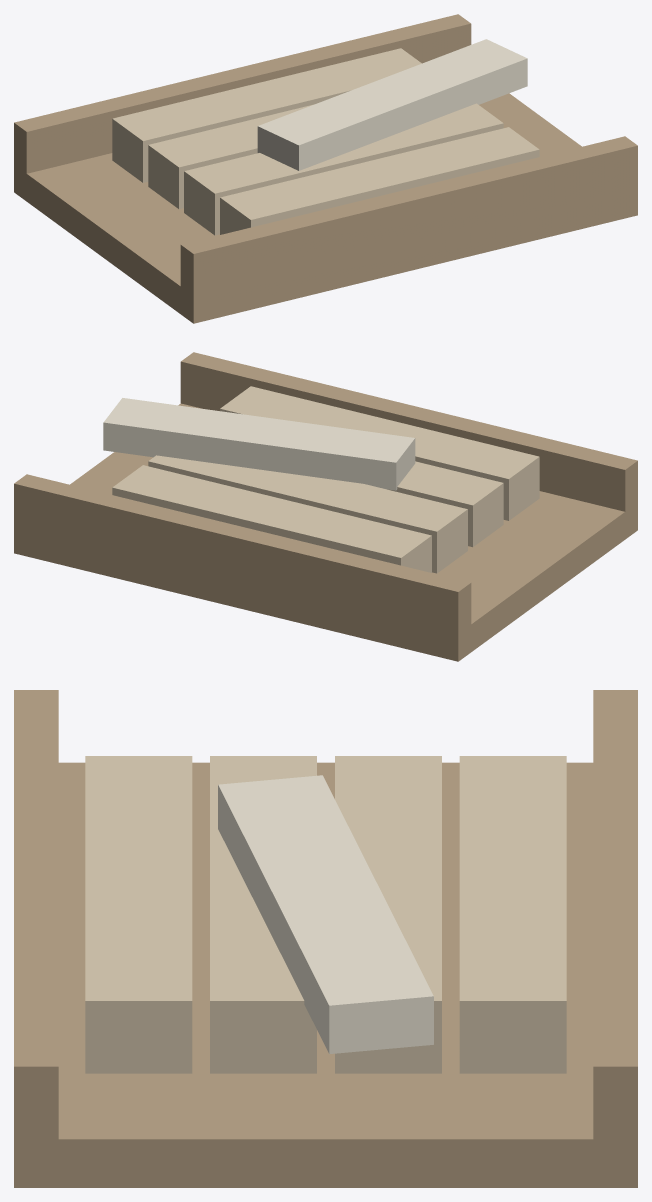
File: prop-handle-scale-blank.fbx
3 views of the same model, one above another, from view 1: azimuth 30°, elevation 25°; view 2: azimuth 150°, elevation 25°; view 3: azimuth 270°, elevation 25° (orthographic). The views are drawn at different scales.
Parts seen in each view (by area): view 1: prop-handle-scale-blank; view 2: prop-handle-scale-blank; view 3: prop-handle-scale-blank.
Boxes of the visible parts, bbox=[...] form: prop-handle-scale-blank: bbox=[14, 14, 637, 323]; prop-handle-scale-blank: bbox=[14, 352, 637, 661]; prop-handle-scale-blank: bbox=[14, 690, 637, 1187].
Size of the model in its own units: 20 by 4.1 by 14.
